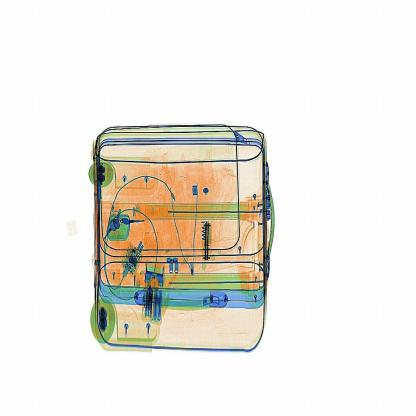scissors: (198, 220, 215, 265)
